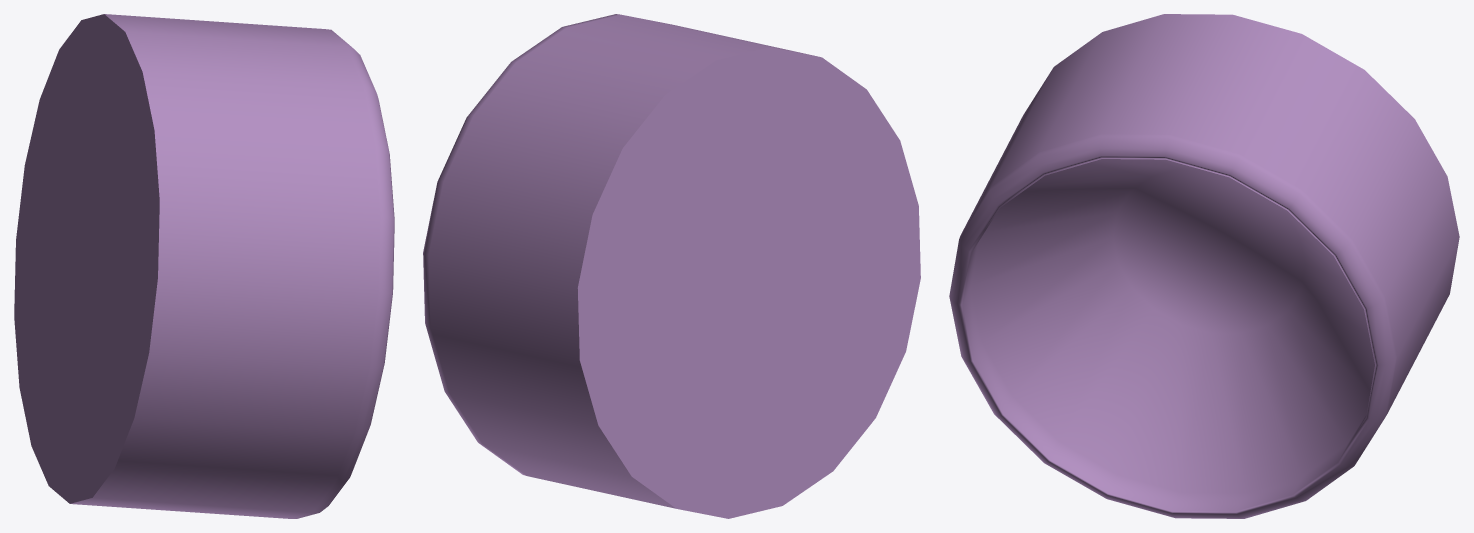
Rendered from TR5_8shapes_Round_Classic_Metal.001 3.glb.
The picture shows the model from 3 angles, left to right: view 1: azimuth 30°, elevation 25°; view 2: azimuth 150°, elevation 25°; view 3: azimuth 270°, elevation 25°; orthographic projection. The views are drawn at different scales.
Parts seen in each view (by area): view 1: TR5_8shapes_Round_Classic_Metal.001; view 2: TR5_8shapes_Round_Classic_Metal.001; view 3: TR5_8shapes_Round_Classic_Metal.001.
Boxes of the visible parts, bbox=[...] form: TR5_8shapes_Round_Classic_Metal.001: bbox=[14, 14, 394, 518]; TR5_8shapes_Round_Classic_Metal.001: bbox=[423, 14, 920, 518]; TR5_8shapes_Round_Classic_Metal.001: bbox=[949, 14, 1459, 518].
Bounding box in the file's own units: 0.4152 × 0.5671 × 0.5851.
